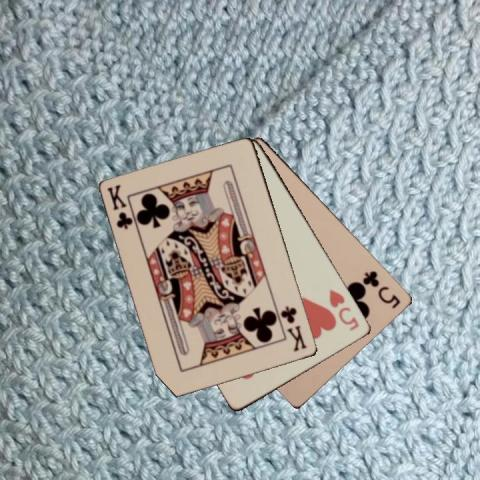5c: (360, 267, 402, 311)
5h: (326, 286, 361, 333)
Kc: (278, 303, 308, 354), (104, 182, 134, 231)
